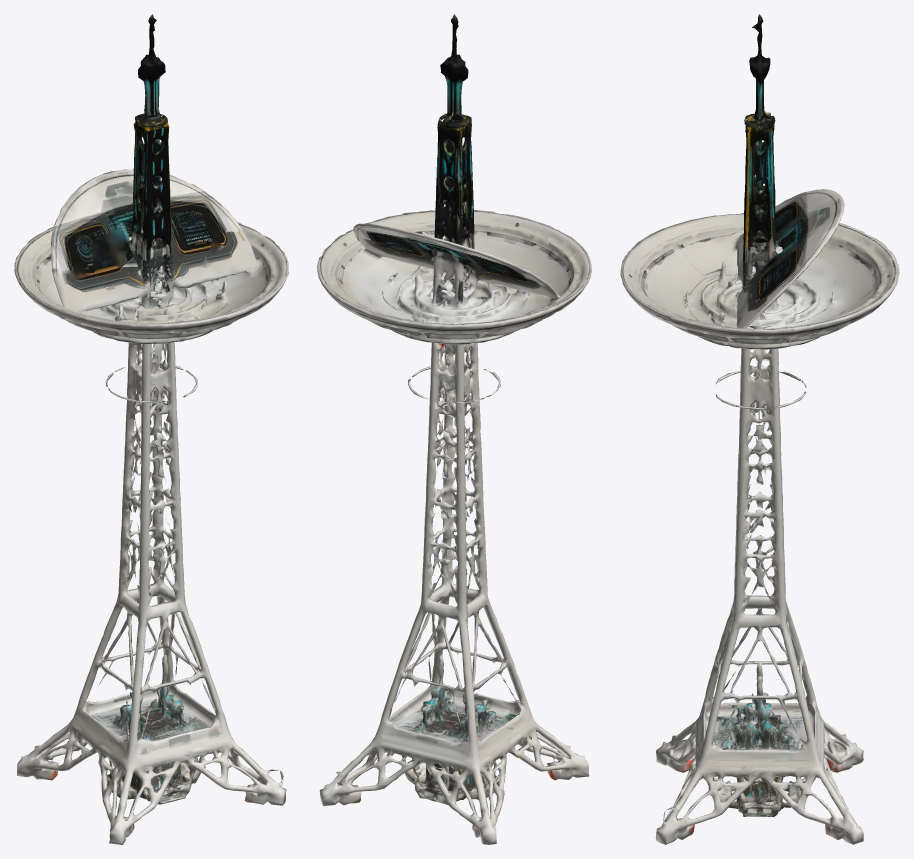
Rendered from signal-dish-tower.glb.
The picture shows the model from 3 angles, left to right: view 1: azimuth 30°, elevation 25°; view 2: azimuth 150°, elevation 25°; view 3: azimuth 270°, elevation 25°; orthographic projection.
Size of the model in its own units: 0.6139 by 1.91 by 0.6132.
Materials: 1 (1 with a texture image).
